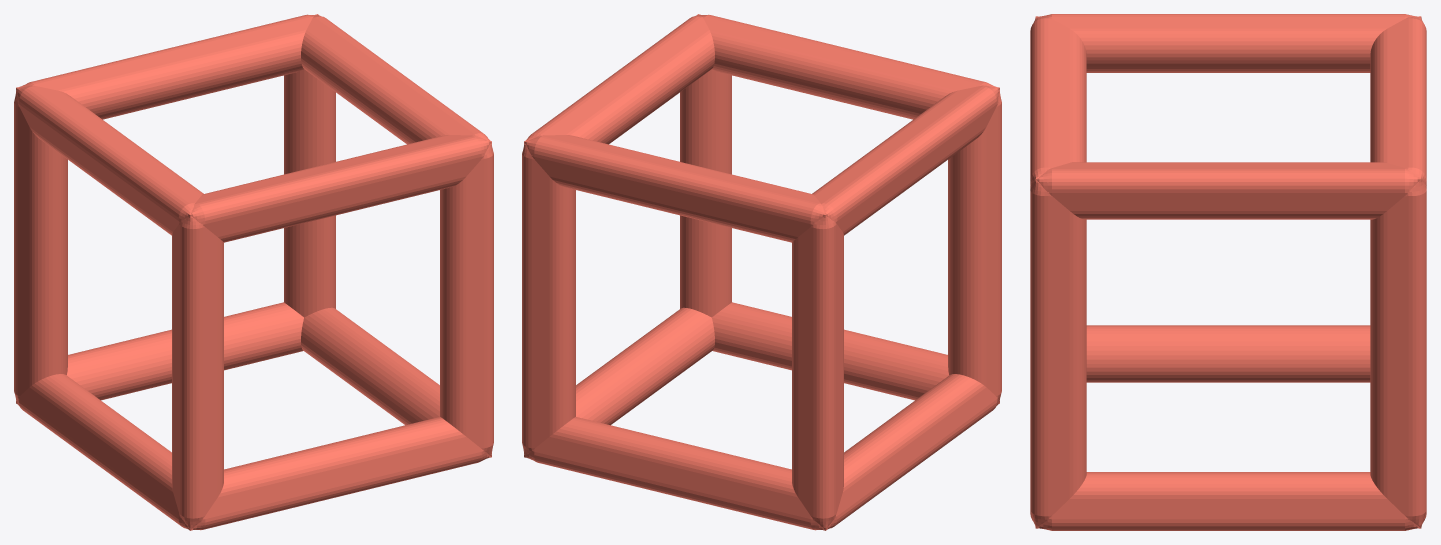
3 views of the same model, side by side, from view 1: azimuth 30°, elevation 25°; view 2: azimuth 150°, elevation 25°; view 3: azimuth 270°, elevation 25° (orthographic). The views are drawn at different scales.
Visible parts, largest first — view 1: Cube; view 2: Cube; view 3: Cube.
Boxes of the visible parts, left/top/right/bottom form: Cube: left=14, top=14, right=493, bottom=530; Cube: left=522, top=14, right=1001, bottom=530; Cube: left=1030, top=14, right=1426, bottom=530.
Size of the model in its own units: 2.28 by 2.28 by 2.28.
